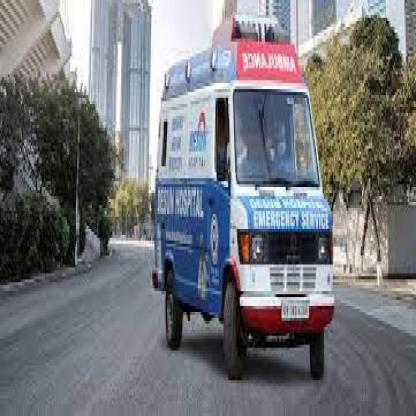priority: (150, 24, 344, 396)
